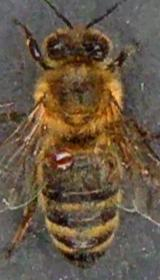varroa_mite: (46, 147, 78, 178)
